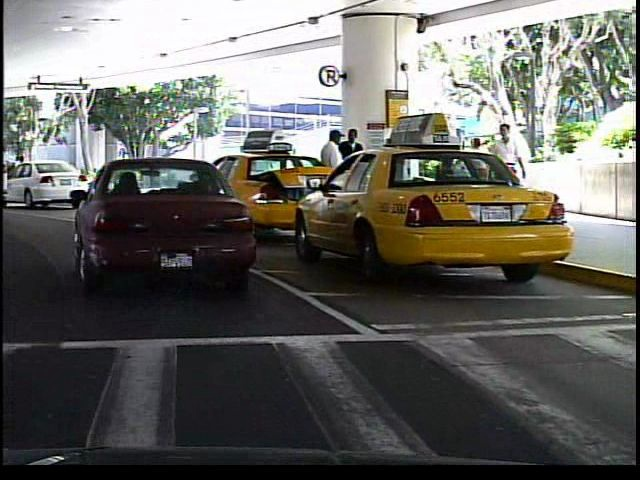person: (489, 119, 530, 226), (316, 126, 345, 222), (338, 126, 366, 216), (460, 131, 488, 208), (8, 150, 33, 194)
